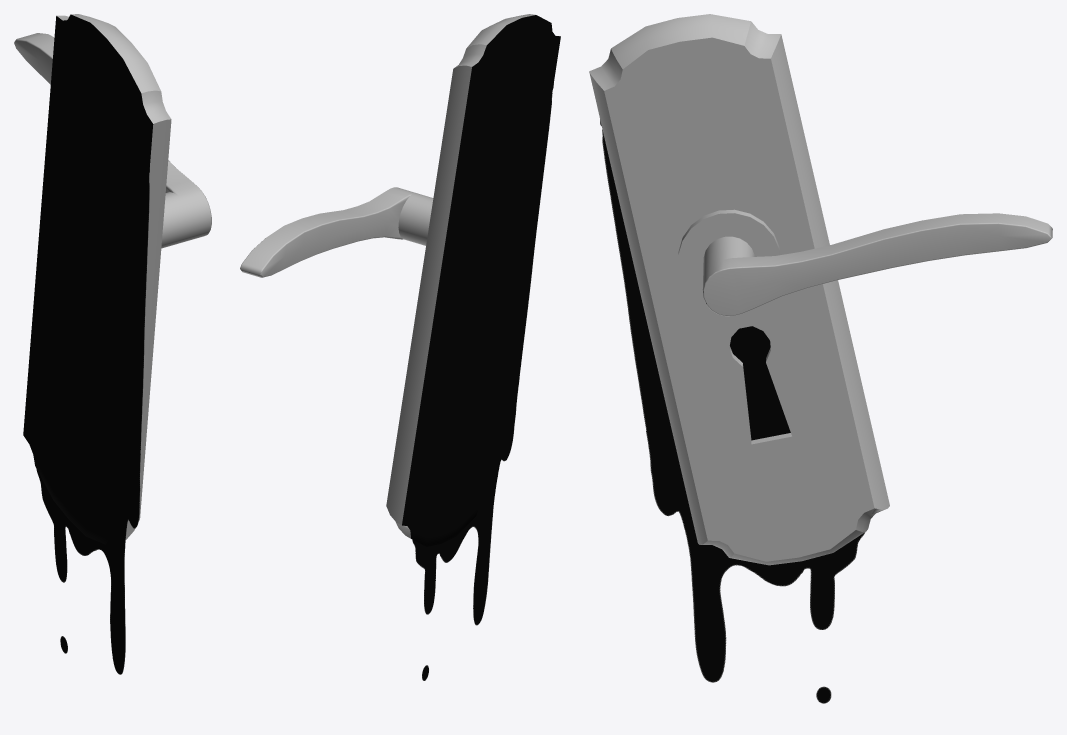
File: DoorhandleMesh.fbx
The picture shows the model from 3 angles, left to right: view 1: azimuth 30°, elevation 25°; view 2: azimuth 150°, elevation 25°; view 3: azimuth 270°, elevation 25°; orthographic projection. The views are drawn at different scales.
Parts seen in each view (by area): view 1: Doorhandle; view 2: Doorhandle; view 3: Doorhandle.
Boxes of the visible parts, box(x1,y1,x2,y2) form: Doorhandle: box(14, 14, 211, 674); Doorhandle: box(240, 14, 560, 680); Doorhandle: box(589, 14, 1052, 703).
Size of the model in its own units: 0.4655 by 2.6 by 1.58.
Materials: 1 (1 with a texture image).
